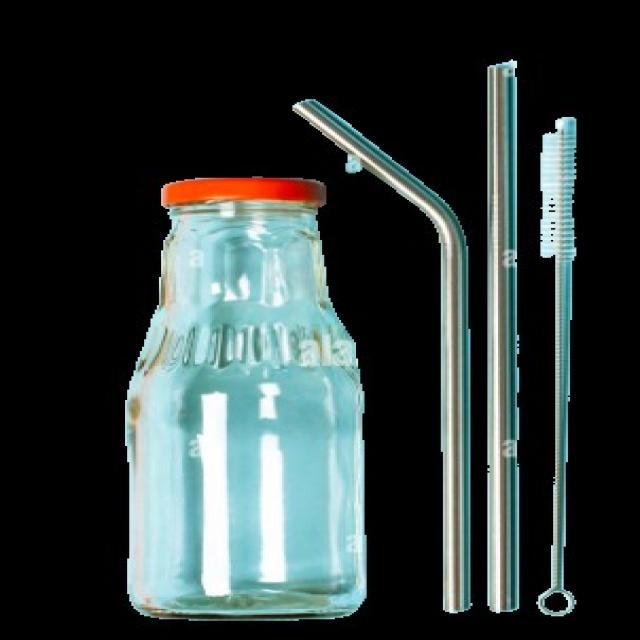dry: (349, 57, 640, 640), (125, 168, 372, 640)
